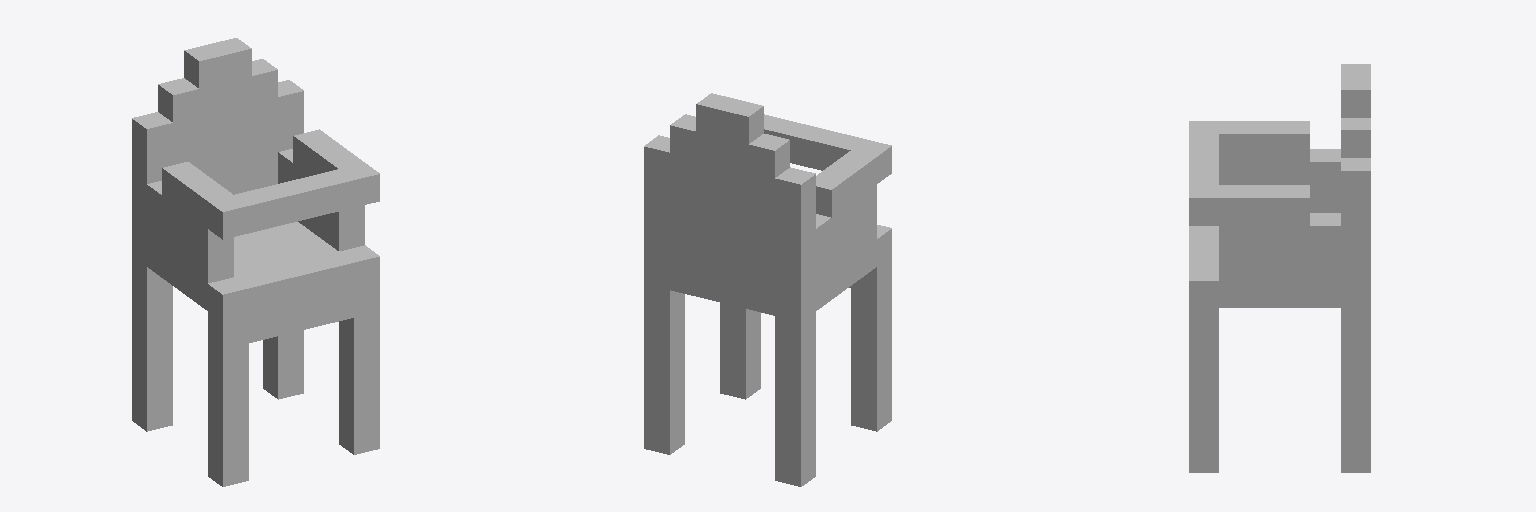
The model's file is obj_chair.obj.
3 renders of one model, left to right at view 1: azimuth 30°, elevation 25°; view 2: azimuth 150°, elevation 25°; view 3: azimuth 270°, elevation 25°, orthographic.
Visible parts, largest first — view 1: obj_chair; view 2: obj_chair; view 3: obj_chair.
Part boxes in pixels (x1,y1,x2,y2): obj_chair: (132,38,379,486); obj_chair: (644,93,891,486); obj_chair: (1189,64,1370,472).
Bounding box in the file's own units: 6 × 13 × 6.